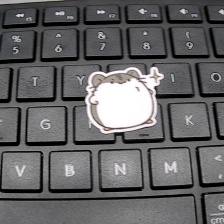mouse: (86, 61, 166, 137)
